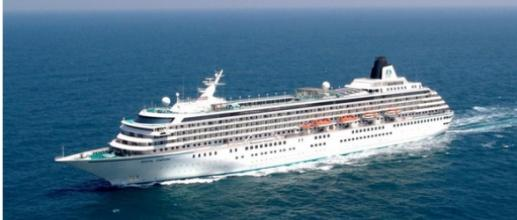youlun: (51, 53, 454, 186)
